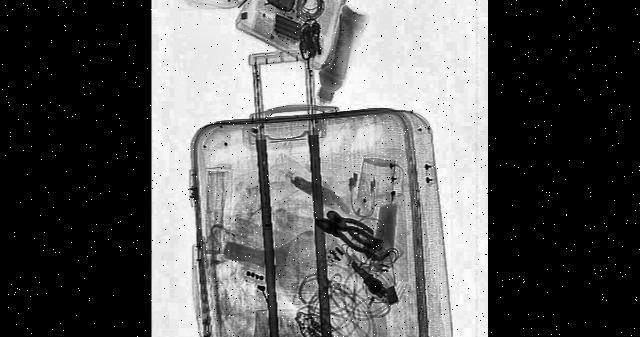Pliers: (314, 206, 375, 258), (326, 201, 374, 250)
